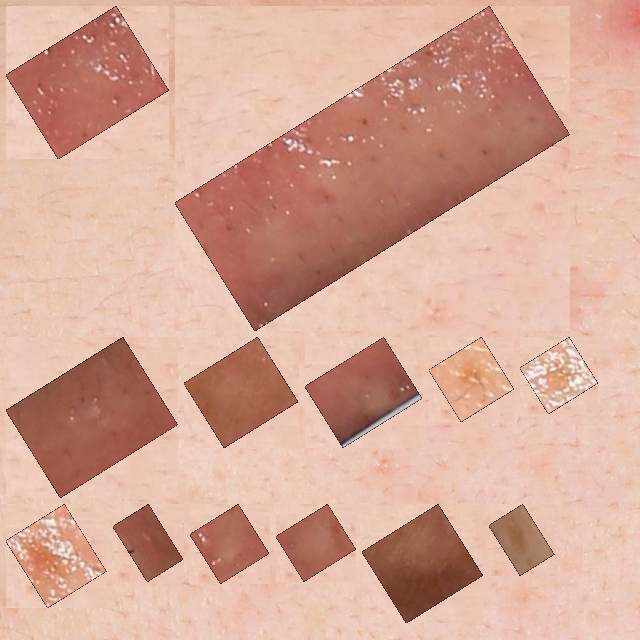hypertrophic_scar: (186, 17, 559, 320), (17, 348, 167, 486), (17, 17, 158, 148), (373, 515, 472, 612), (316, 348, 411, 436), (195, 348, 287, 437), (201, 515, 258, 572), (287, 515, 345, 570)
melasma: (17, 515, 95, 597), (440, 348, 503, 411), (531, 348, 587, 403), (500, 515, 543, 564)
pustule: (124, 515, 172, 570)
